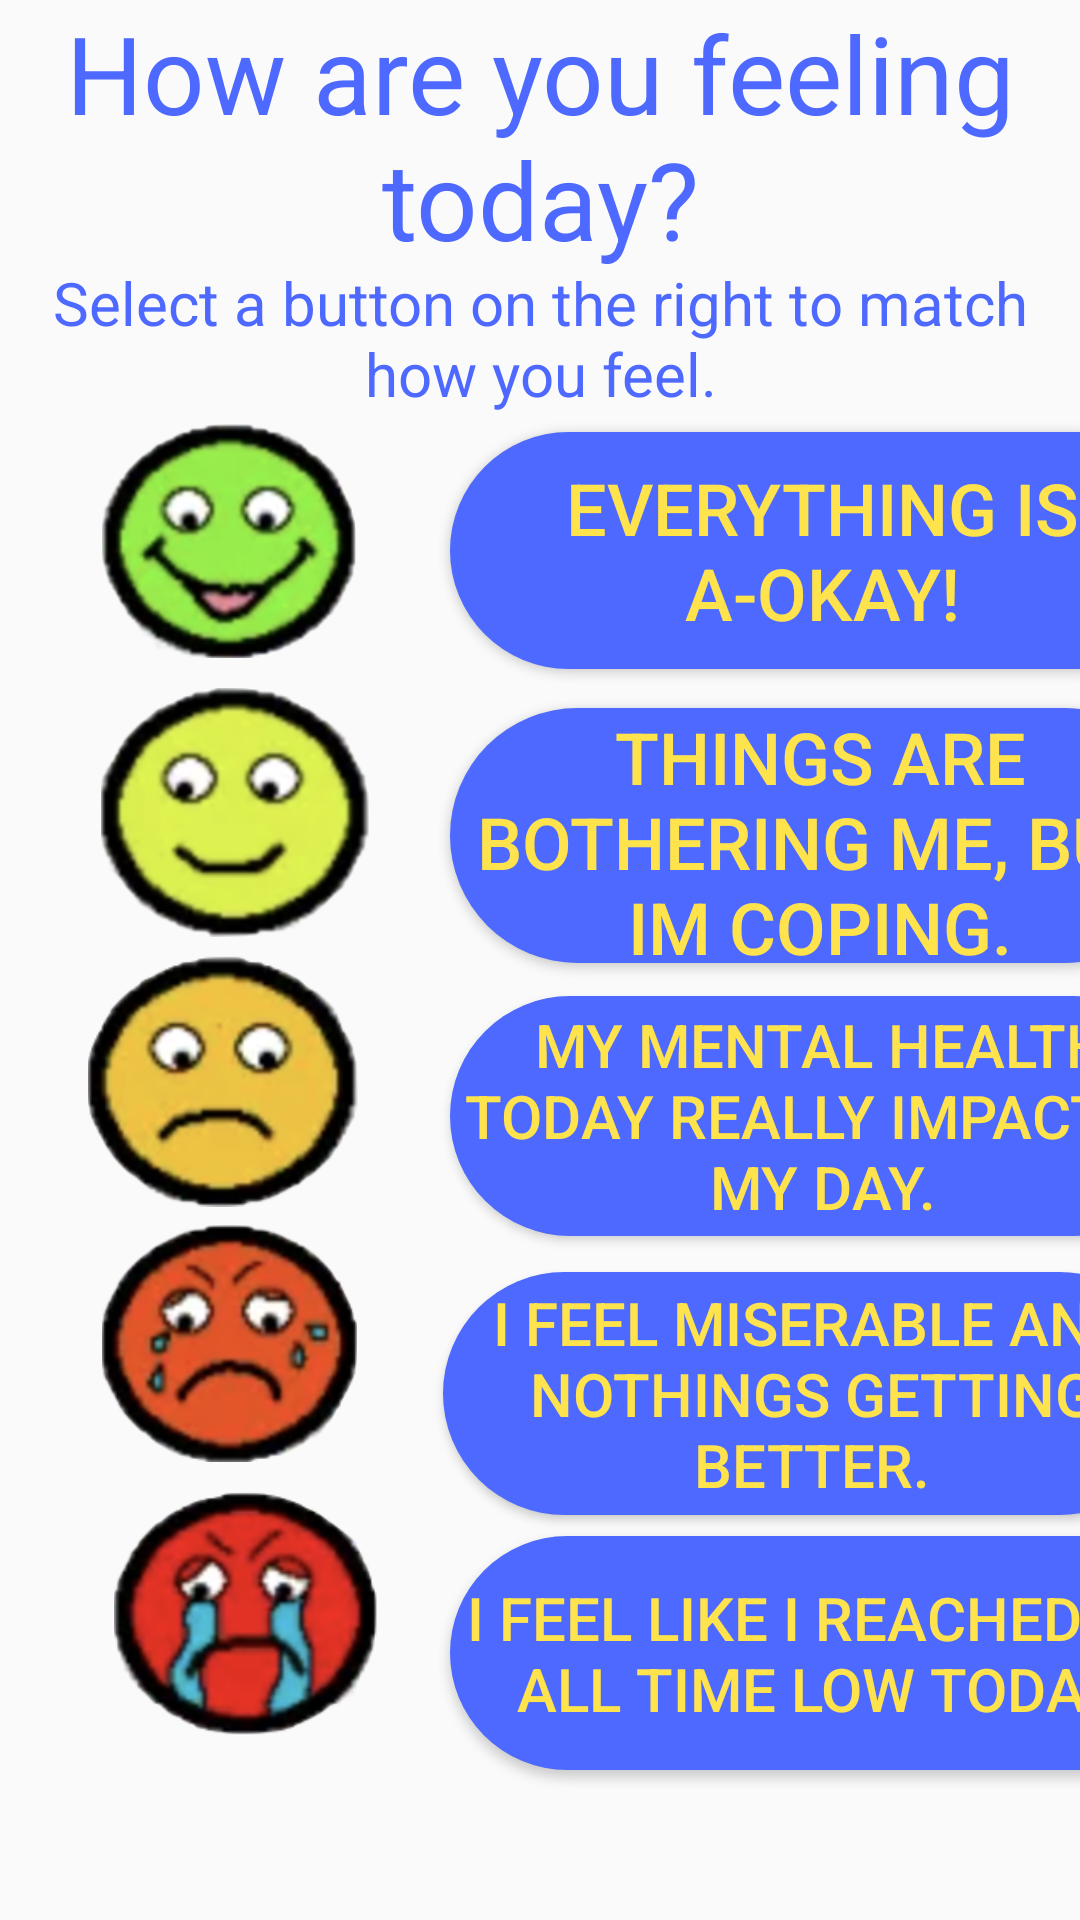

Where to tap for icons on this 1080w x 1920h app screen, as [x,y]:
fifth mood: [245,1613]
first mood: [229,541]
fourth mood: [229,1343]
second mood: [235,812]
third mood: [222,1082]
